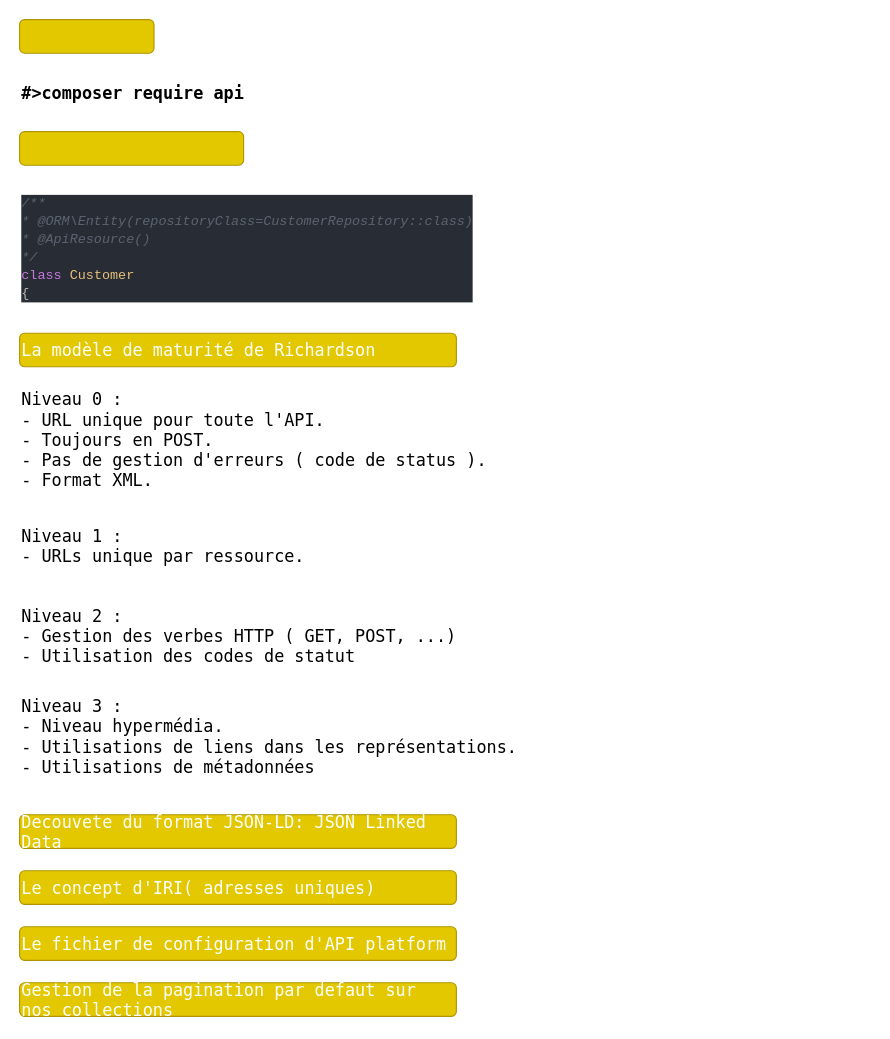
This 890x1039 diagram has some shape labels left out. The shapes that lost their labels are listed below. From the top down, each one's centre as x and y in pixels, then its label:
the point at 86,35: installation
the point at 131,147: Création Premiére Ressource
